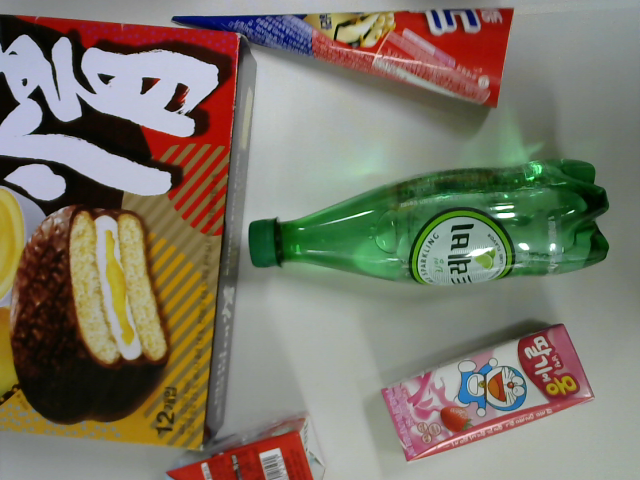Choco_Pie_Banana: (1, 4, 261, 463)
Picnic_Apple: (163, 407, 336, 480)
Strawberry_E_Mong: (377, 322, 601, 465)
Treviraim_500ml: (234, 152, 625, 296)
World_Cone_Banila: (161, 1, 532, 123)
